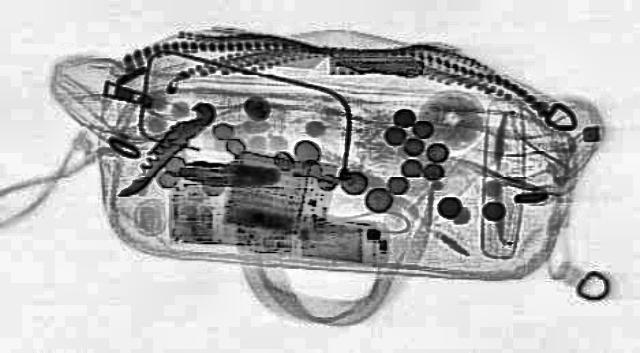Knife: (105, 99, 225, 199)
